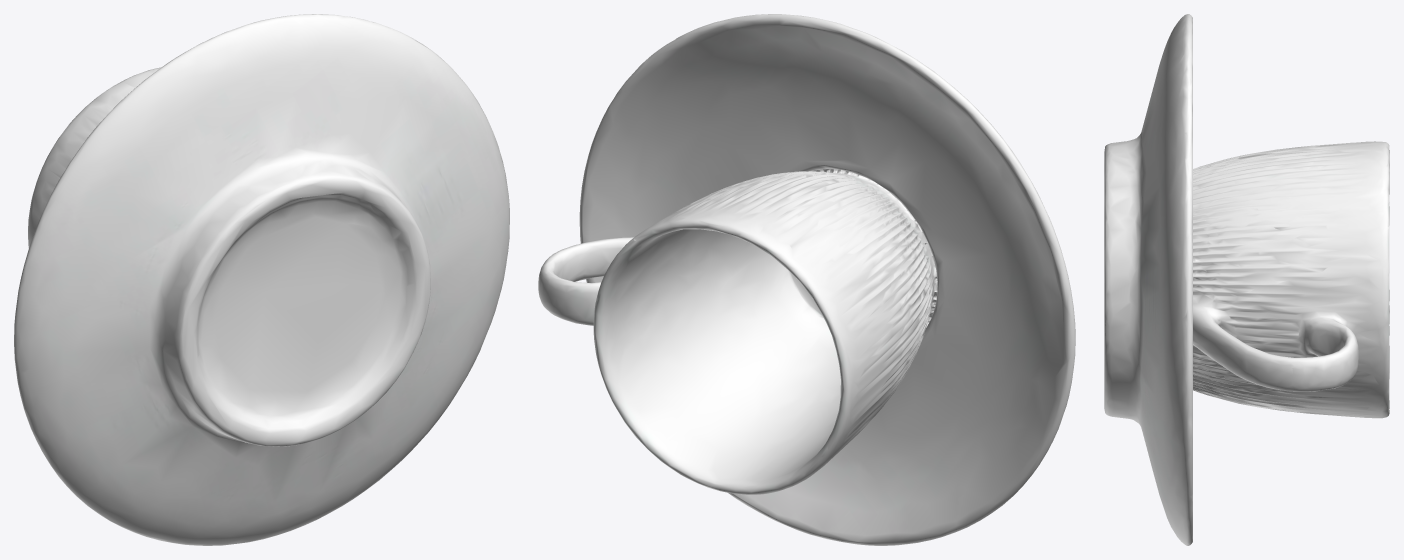
File: cup-hot-dinein.glb
3 views of the same model, side by side, from view 1: azimuth 30°, elevation 25°; view 2: azimuth 150°, elevation 25°; view 3: azimuth 270°, elevation 25° (orthographic). The views are drawn at different scales.
Visible parts, largest first — view 1: Mesh_0; view 2: Mesh_0; view 3: Mesh_0.
Boxes of the visible parts, x1,y1,x2,y2 form: Mesh_0: (14,14,509,545); Mesh_0: (538,14,1075,545); Mesh_0: (1104,14,1389,545).
Size of the model in its own units: 1.91 by 1.91 by 1.02.
1 material, 1 textured.
